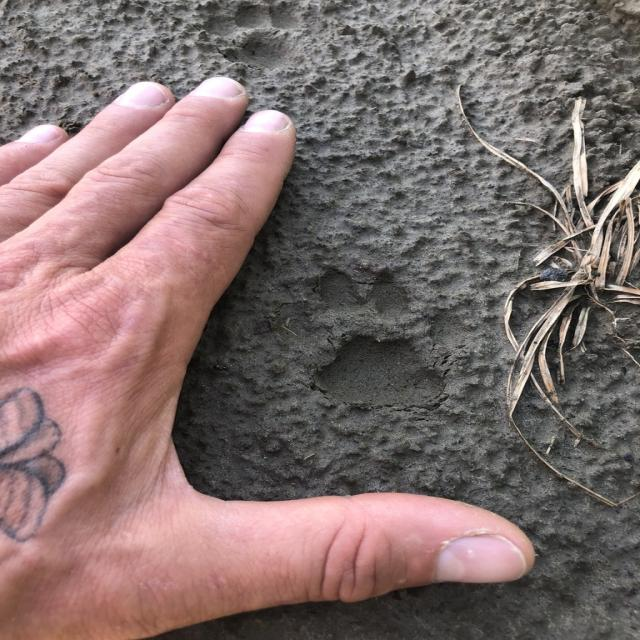felid: (290, 268, 458, 402)
